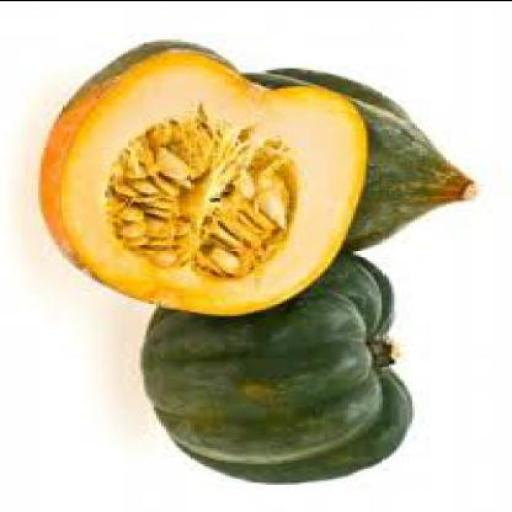biodegradable: (44, 37, 374, 313), (144, 248, 417, 482), (264, 66, 486, 248)
